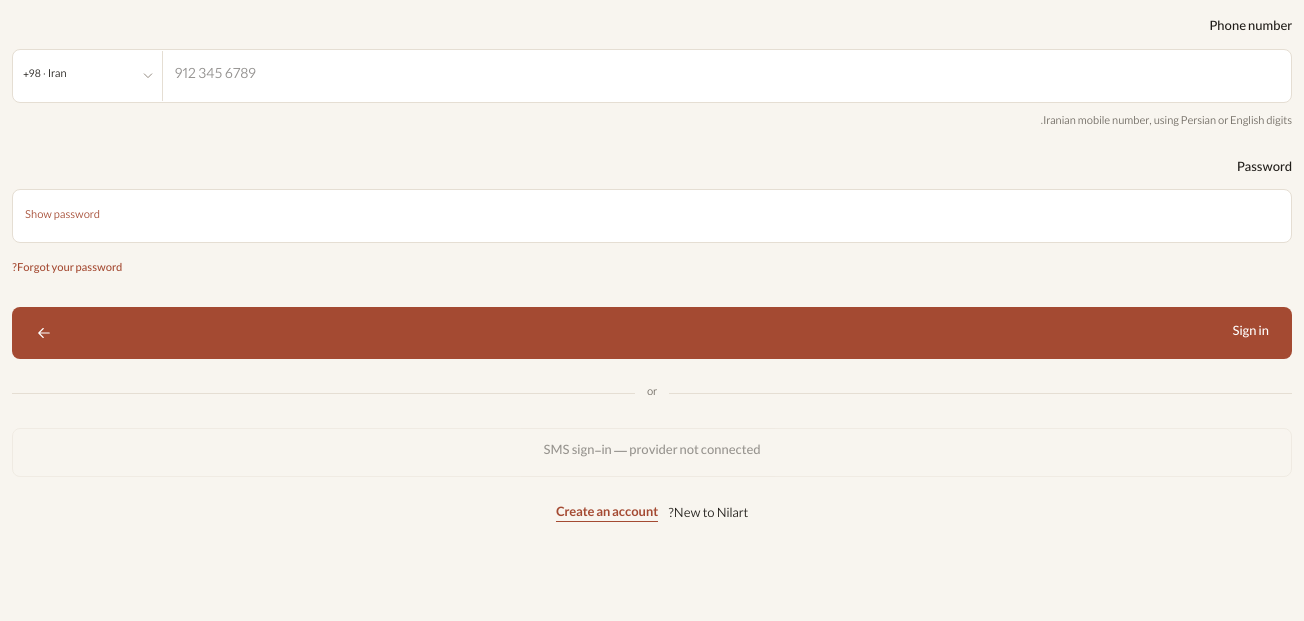
Test: uses the design form but disables preview success and submits live credentials
Type "09123456789" into the field labelled "Phone number" at point(727, 76), box x1=163 y1=50 x2=1291 y2=102
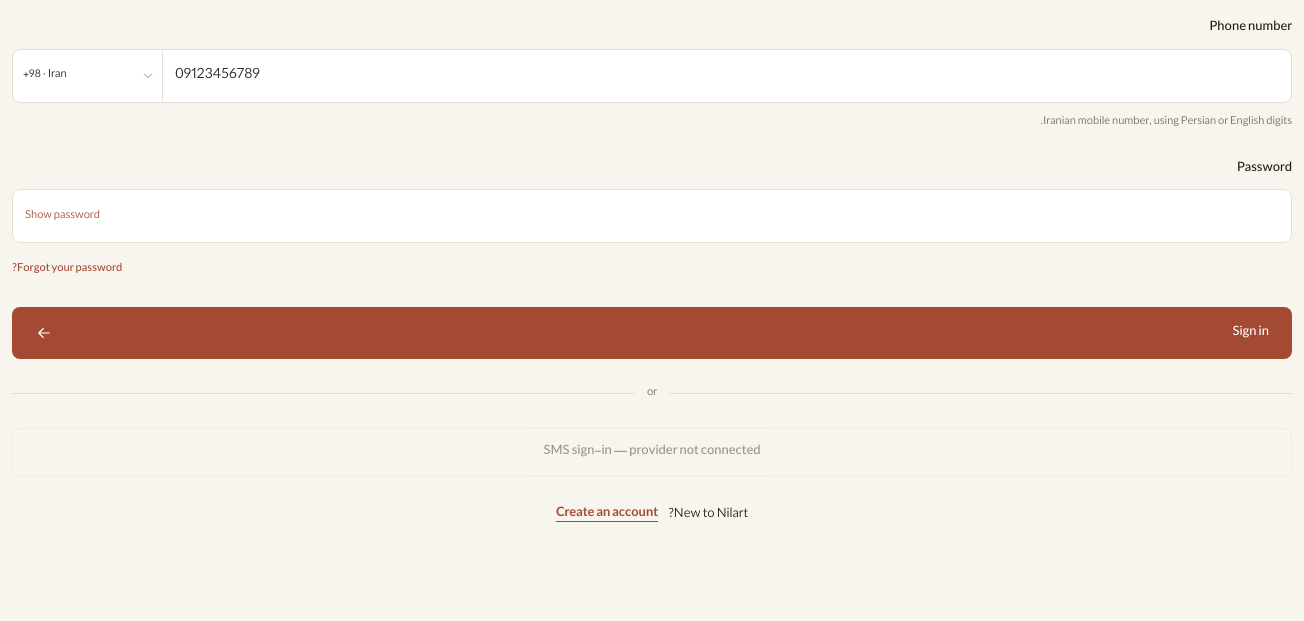
Type "wrong password" into the password field with id "login-password" at point(702, 216), box x1=112 y1=190 x2=1291 y2=242
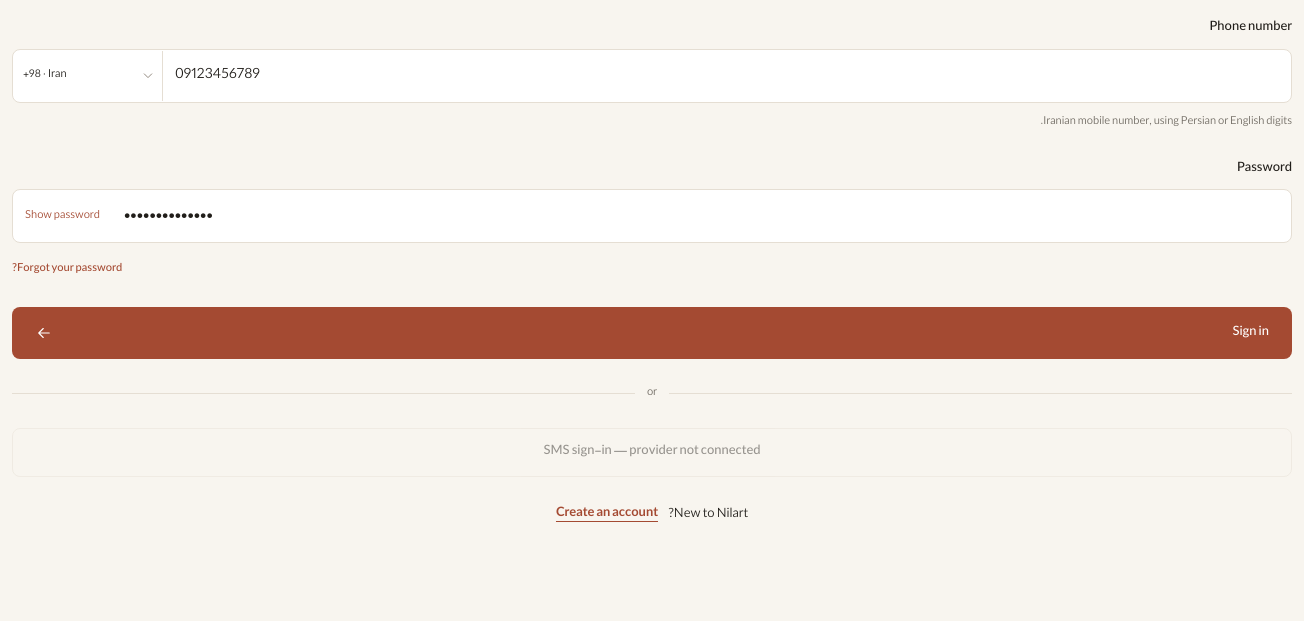
Click the button "Sign in" at point(1251, 332), box x1=12 y1=307 x2=1292 y2=359
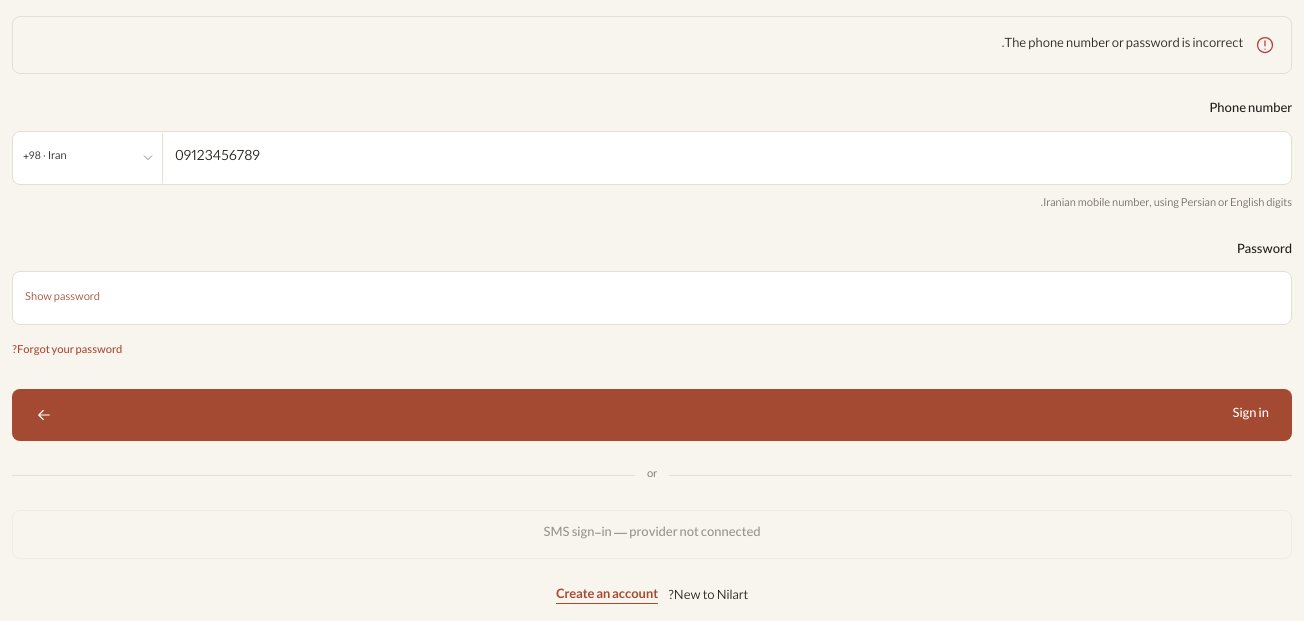
Expected: the button "SMS sign-in — provider not connected" is disabled, x1=12 y1=510 x2=1292 y2=558
Expected: the text "The phone number or password is incorrect." is shown, x1=1002 y1=33 x2=1243 y2=57
Expected: the password field with id "login-password" is empty, x1=112 y1=272 x2=1291 y2=324
